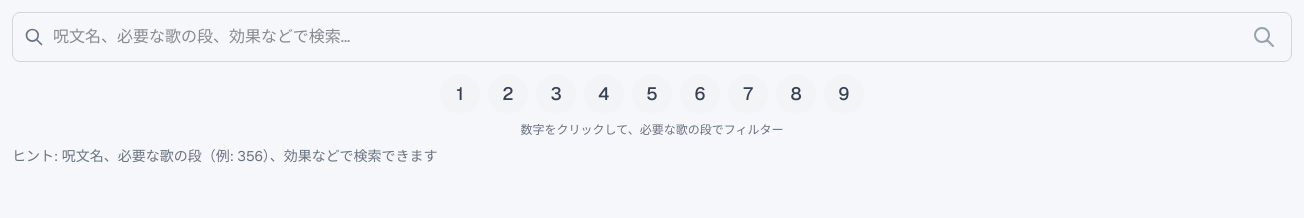
Test case: SearchBox › 検索履歴が表示されること
検索ボックスにフォーカス
Focus the search field: (652, 37) [12,12,1292,62]
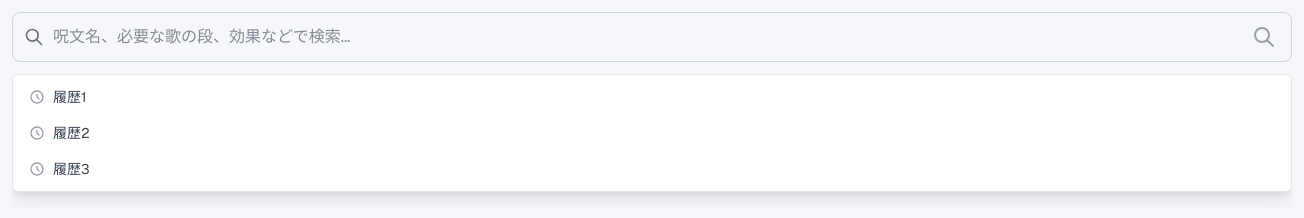
Check: the text "履歴1" is shown, box [29,88,86,106]
Check: the text "履歴2" is shown, box [29,124,90,142]
Check: the text "履歴3" is shown, box [29,160,90,178]
